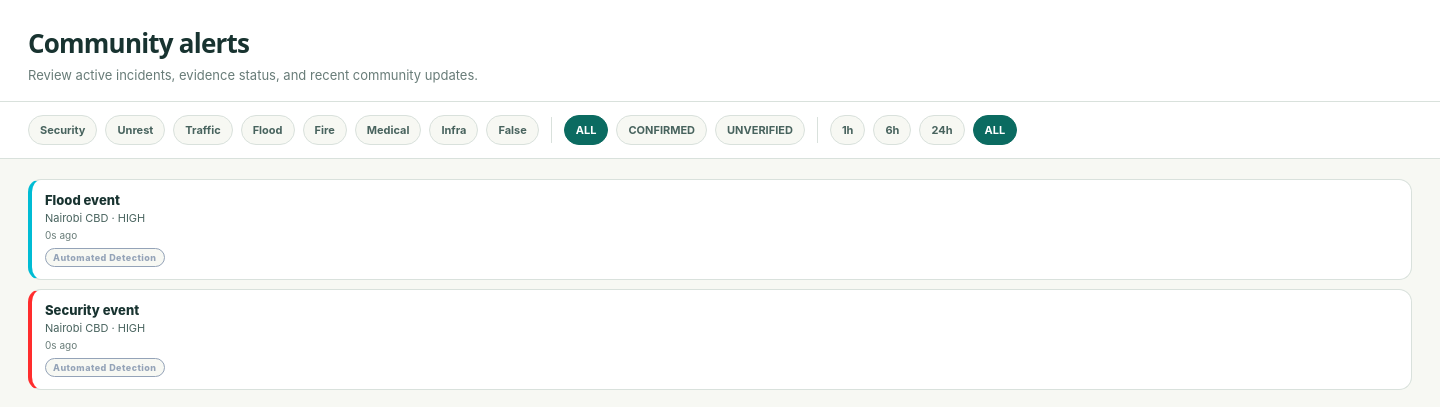
Test case: AlertsPage › clicking a type chip toggles that type filter
Expected: the text "Security event" is shown, [45,302,139,318]
Expected: the text "Flood event" is shown, [45,192,120,208]
Click SECURITY_INCIDENT chip — only security events should show
Click the button with test id "type-chip-SECURITY_INCIDENT" at (63,130), box [28,115,98,145]
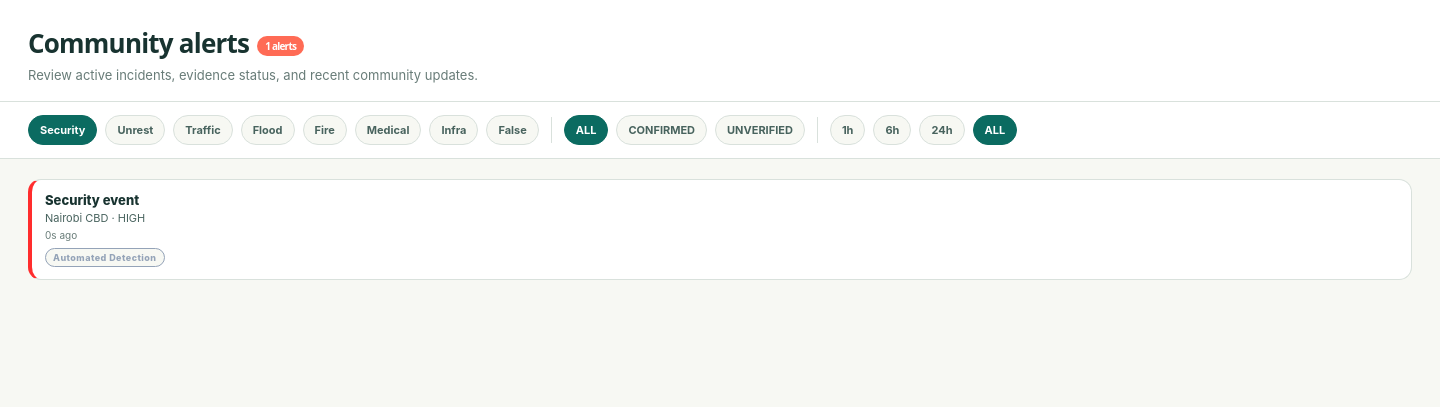
Expected: the text "Security event" is shown, [45,192,139,208]
Now the button "Flood event" is gone
Click again to deselect — both visible again
Click the button with test id "type-chip-SECURITY_INCIDENT" at (63,130), box [28,115,98,145]
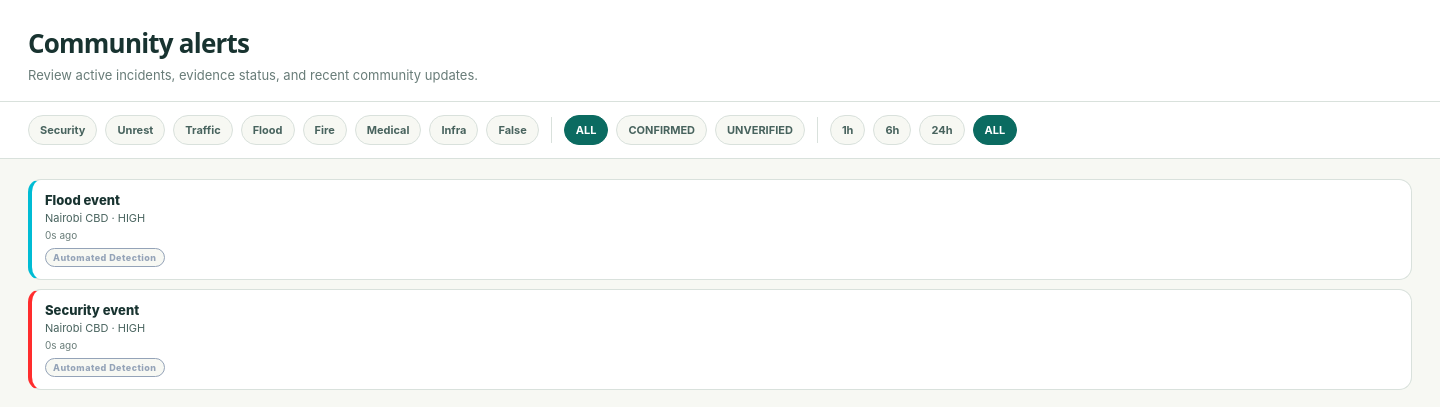
Expected: the text "Security event" is shown, [45,302,139,318]
Now the text "Flood event" is shown, box [45,192,120,208]
